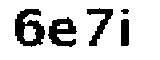6: (12, 3, 45, 51)
7: (85, 1, 115, 52)
e: (49, 14, 80, 49)
i: (117, 6, 142, 56)
